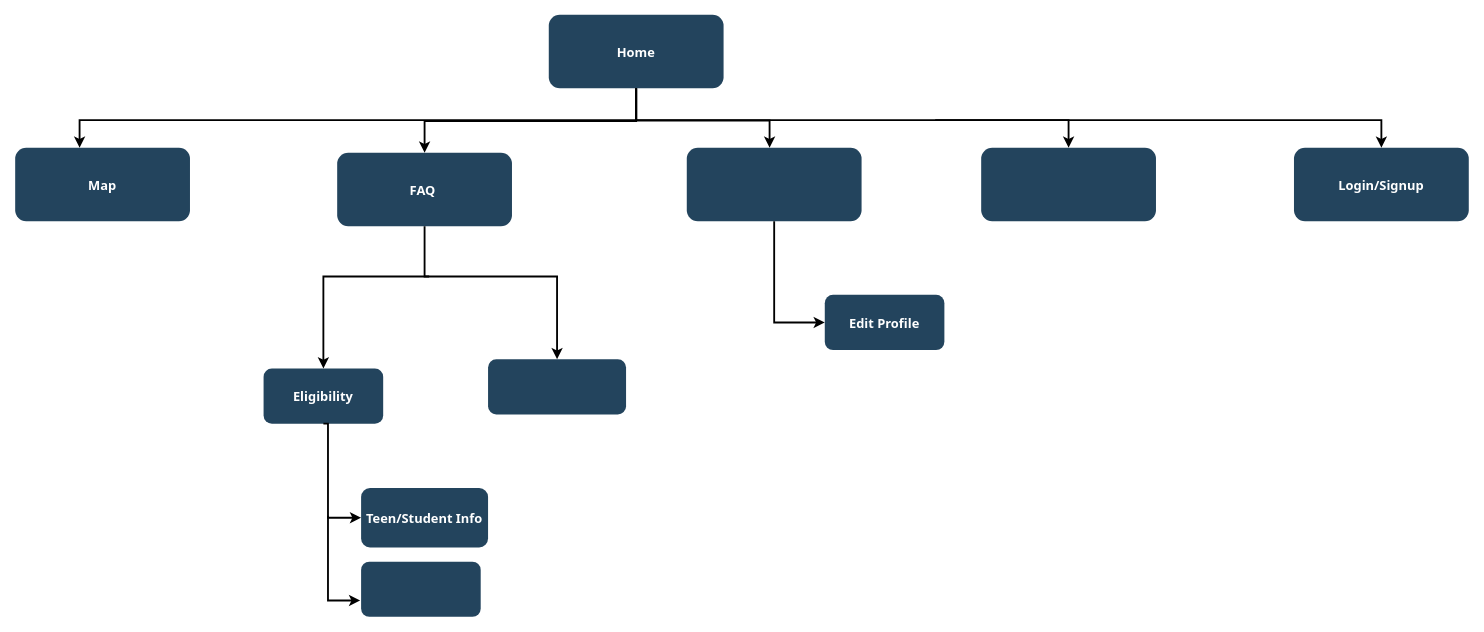
Some shapes in this 1484 by 632 pixel diagram are drawn without their labels. Here are the shapes that lost their labels. From the top down, the centre of each, then its label:
At pixel 773 184: "Profile".
At pixel 1068 184: "Contact Us".
At pixel 557 386: "Other Ways to Help".
At pixel 420 588: "Learn More".
